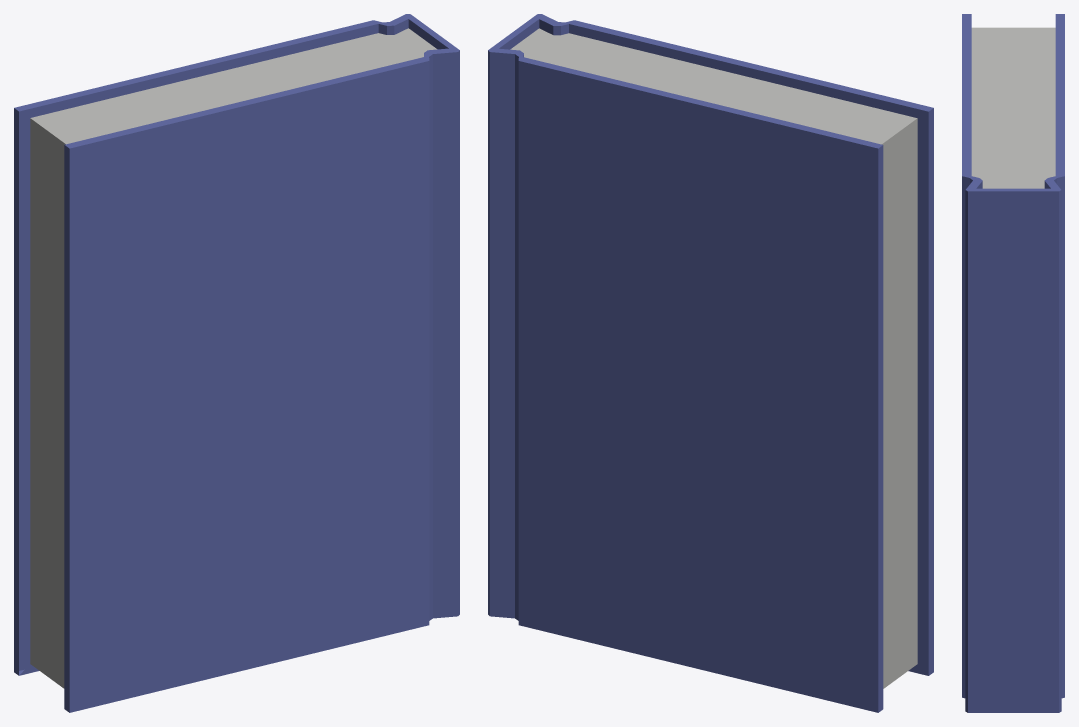
The model's file is Book_Closed.fbx.
The picture shows the model from 3 angles, left to right: view 1: azimuth 30°, elevation 25°; view 2: azimuth 150°, elevation 25°; view 3: azimuth 270°, elevation 25°; orthographic projection. The views are drawn at different scales.
Visible parts, largest first — view 1: Book_Closed; view 2: Book_Closed; view 3: Book_Closed.
Part boxes in pixels (x1,y1,x2,y2): Book_Closed: (14, 14, 459, 712); Book_Closed: (488, 14, 933, 712); Book_Closed: (962, 14, 1064, 712).
Bounding box in the file's own units: 4.27 × 5.85 × 1.05.
